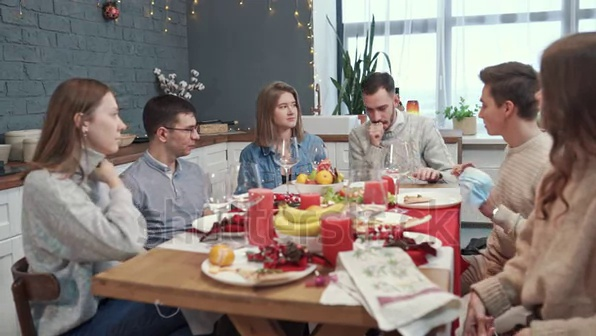No Mask: (50, 84, 133, 170), (466, 66, 540, 148), (144, 96, 203, 161), (251, 81, 312, 142), (357, 72, 405, 139)
